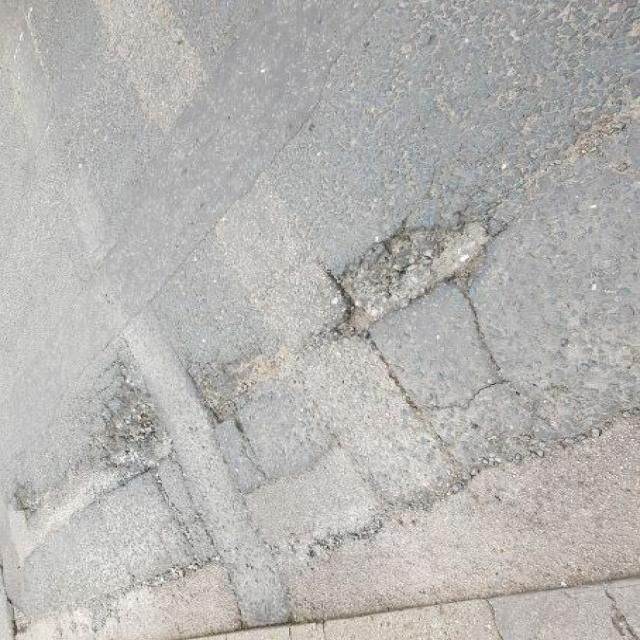pothole: (327, 203, 506, 341), (190, 340, 306, 428), (86, 368, 168, 470), (8, 474, 54, 520), (0, 592, 37, 637)
